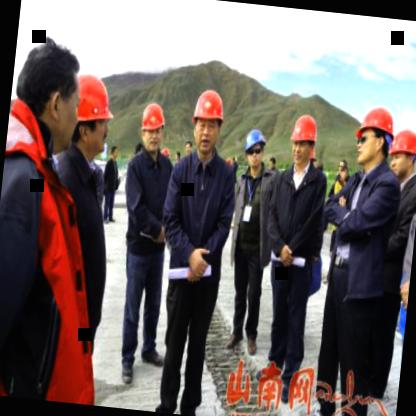head: (8, 32, 89, 156)
helmet: (64, 67, 119, 164), (350, 104, 398, 178), (187, 86, 231, 161), (286, 106, 322, 172), (384, 126, 416, 193), (135, 98, 169, 158), (239, 126, 271, 174)
